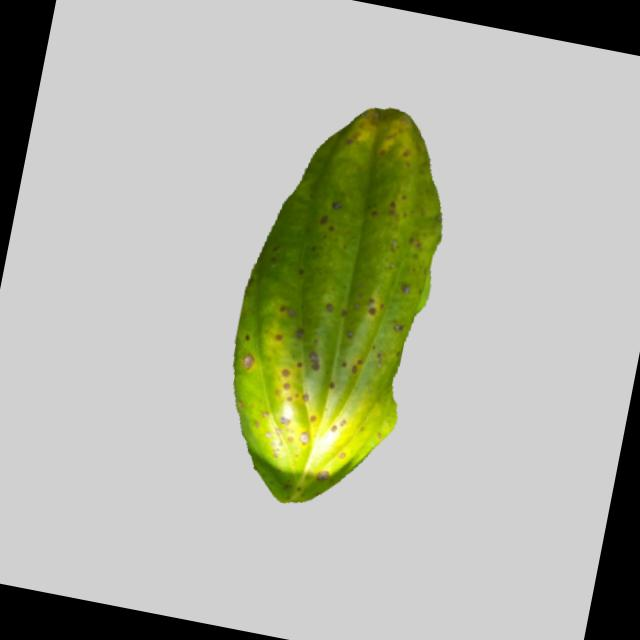yellow-mottle-virus: (186, 85, 468, 529)
